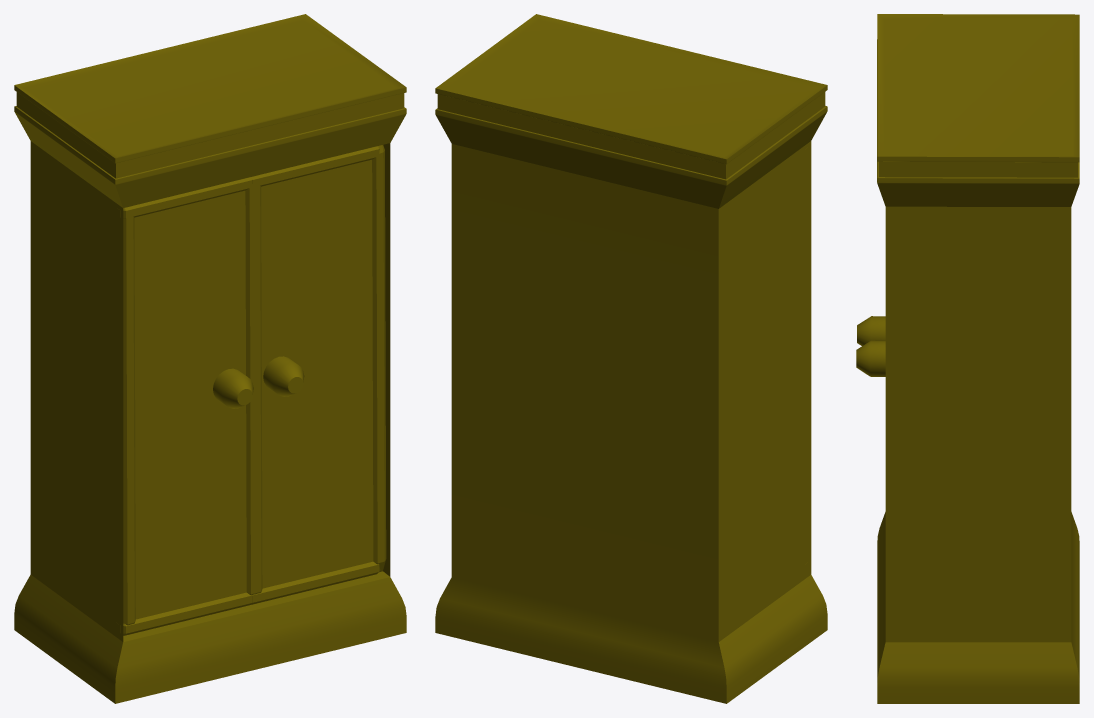
The model's file is Closet.fbx.
3 renders of one model, left to right at view 1: azimuth 30°, elevation 25°; view 2: azimuth 150°, elevation 25°; view 3: azimuth 270°, elevation 25°, orthographic.
Parts seen in each view (by area): view 1: group17_pasted__pCube9; view 2: group17_pasted__pCube9; view 3: group17_pasted__pCube9.
Boxes of the visible parts, <box> form: group17_pasted__pCube9: <box>14,14,406,703</box>; group17_pasted__pCube9: <box>435,14,827,703</box>; group17_pasted__pCube9: <box>856,14,1079,703</box>.
Bounding box in the file's own units: 10 × 17.88 × 6.62.
